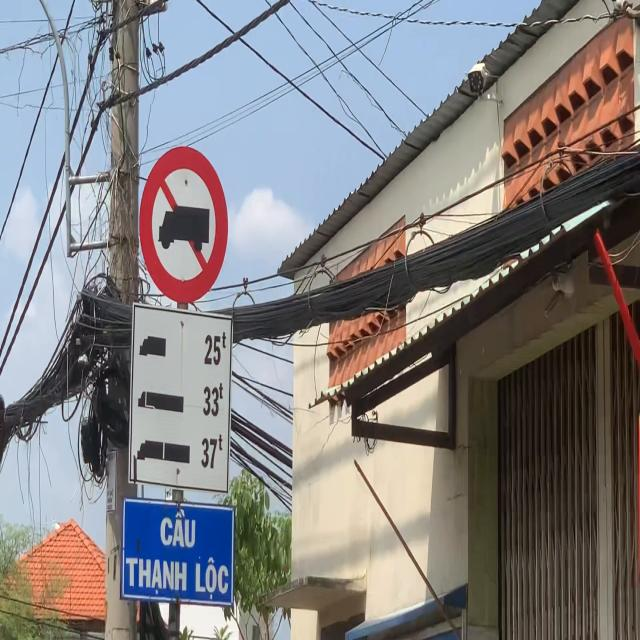Cam con lai: (137, 144, 229, 304)
